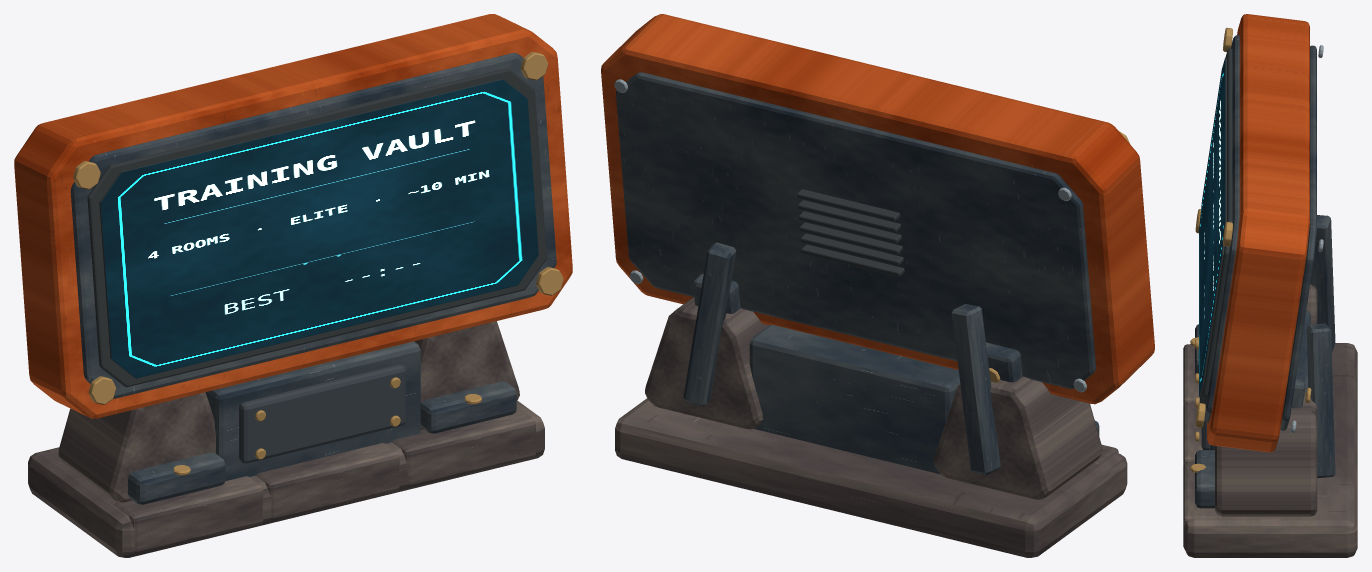
The model's file is wsc-prop-062-vault-information-sign.glb.
The picture shows the model from 3 angles, left to right: view 1: azimuth 30°, elevation 25°; view 2: azimuth 150°, elevation 25°; view 3: azimuth 270°, elevation 25°; orthographic projection. The views are drawn at different scales.
Parts seen in each view (by area): view 1: wsc-prop-062-vault-information-sign; view 2: wsc-prop-062-vault-information-sign; view 3: wsc-prop-062-vault-information-sign.
Part boxes in pixels (x1,y1,x2,y2): wsc-prop-062-vault-information-sign: [14, 14, 572, 557]; wsc-prop-062-vault-information-sign: [601, 14, 1154, 557]; wsc-prop-062-vault-information-sign: [1183, 14, 1357, 557].
Size of the model in its own units: 2.42 by 1.82 by 0.804.
9 materials, 5 textured.
